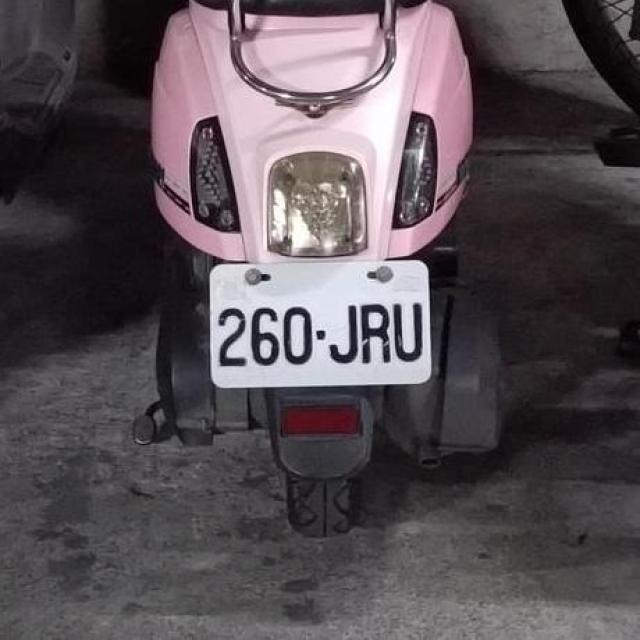W: (206, 253, 435, 388)
